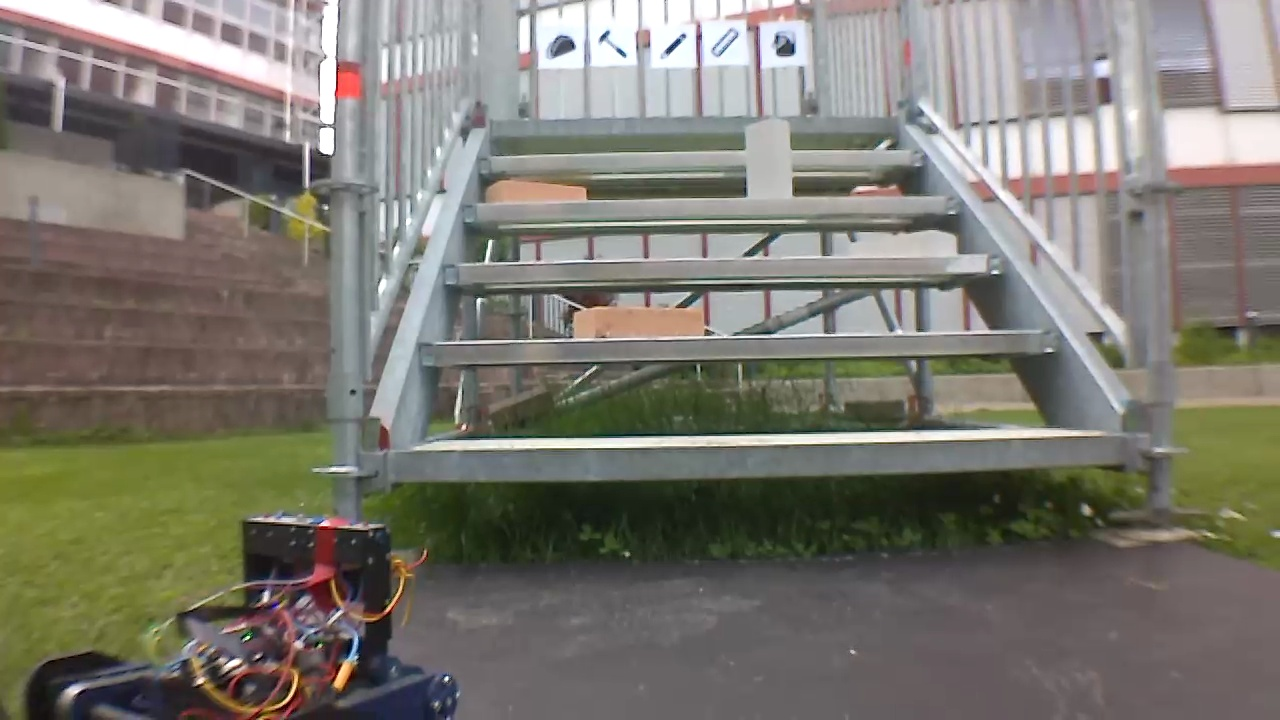brick: (571, 304, 702, 337), (748, 117, 791, 198), (853, 230, 955, 256), (487, 181, 584, 203)
bucket: (767, 25, 801, 61)
edge: (394, 433, 1120, 480), (419, 330, 1066, 361), (443, 255, 1008, 281), (461, 196, 959, 217), (480, 149, 924, 170), (489, 116, 891, 133)
hammer: (593, 30, 635, 61)
pencil: (657, 29, 688, 64)
ruler: (706, 26, 744, 63)
stairs: (329, 1, 1189, 532)
steps: (377, 109, 1126, 492)
taco: (541, 28, 584, 62)
